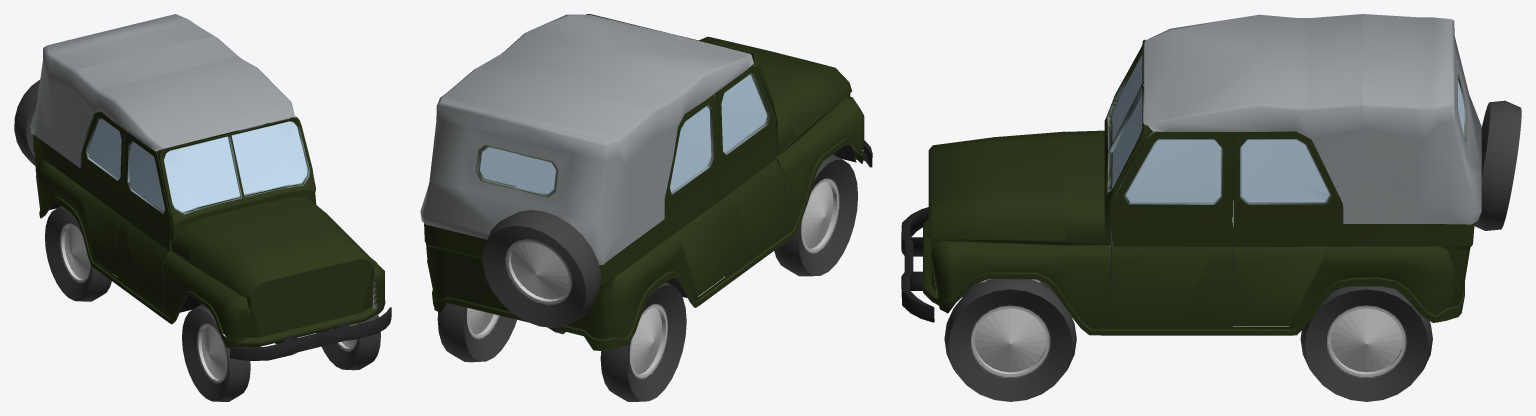
Rendered from truck.FBX.
3 views of the same model, side by side, from view 1: azimuth 30°, elevation 25°; view 2: azimuth 150°, elevation 25°; view 3: azimuth 270°, elevation 25° (orthographic). The views are drawn at different scales.
Size of the model in its own units: 1569 by 2140 by 4014.
1 material, 1 textured.
